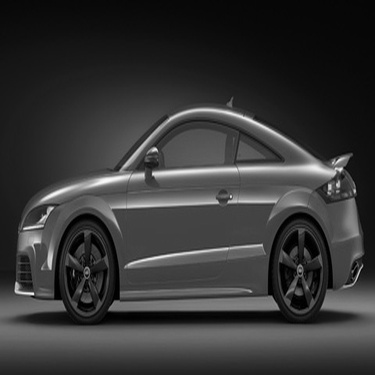car: (7, 94, 366, 326)
